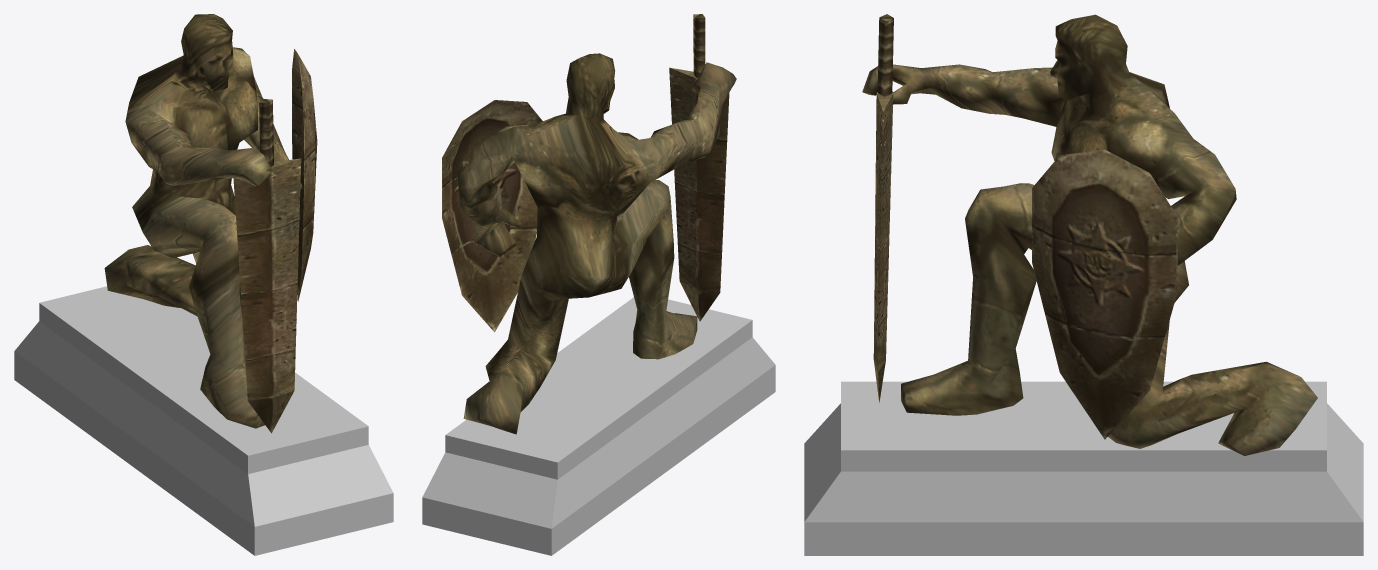
Rendered from gzc_wj_1.fbx.
3 renders of one model, left to right at view 1: azimuth 30°, elevation 25°; view 2: azimuth 150°, elevation 25°; view 3: azimuth 270°, elevation 25°, orthographic. The views are drawn at different scales.
Visible parts, largest first — view 1: gzc_wj_1; view 2: gzc_wj_1; view 3: gzc_wj_1.
Boxes of the visible parts, x1=… form: gzc_wj_1: x1=14, y1=14, x2=393, y2=555; gzc_wj_1: x1=422, y1=14, x2=775, y2=555; gzc_wj_1: x1=804, y1=14, x2=1363, y2=555.
Size of the model in its own units: 512 by 996 by 1010.
